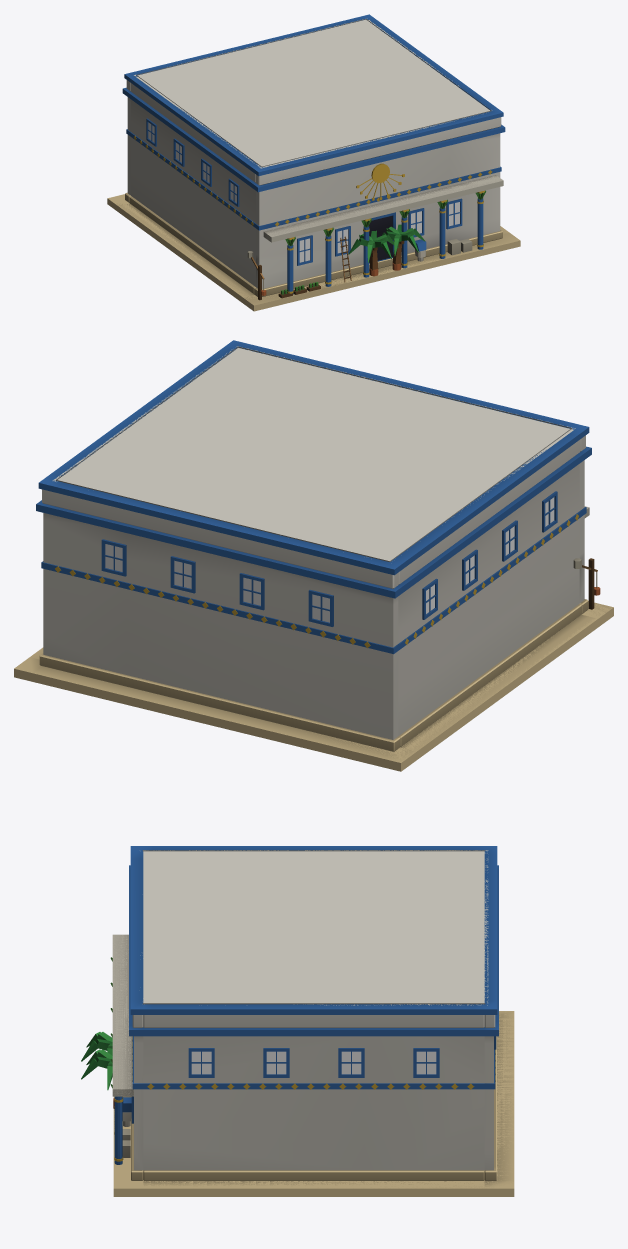
The model's file is NefertitiBustFloor.fbx.
3 renders of one model, top to bottom at view 1: azimuth 30°, elevation 25°; view 2: azimuth 150°, elevation 25°; view 3: azimuth 270°, elevation 25°, orthographic. The views are drawn at different scales.
Visible parts, largest first — view 1: AM_F_Rings, AM_S_All, AM_F_Smooth, AM_F_Quiet, AM_F_Props, AM_F_Glass; view 2: AM_F_Rings, AM_S_All, AM_F_Smooth, AM_F_Quiet, AM_F_Glass; view 3: AM_S_All, AM_F_Rings, AM_F_Smooth, AM_F_Quiet, AM_F_Glass, AM_F_Props.
Part boxes in pixels (x1,y1,x2,y2): AM_F_Rings: [123, 14, 504, 288]; AM_S_All: [107, 18, 520, 311]; AM_F_Smooth: [122, 74, 505, 300]; AM_F_Quiet: [115, 175, 519, 305]; AM_F_Props: [248, 224, 472, 291]; AM_F_Glass: [148, 122, 459, 262]; AM_F_Rings: [36, 340, 591, 739]; AM_S_All: [14, 346, 613, 771]; AM_F_Smooth: [36, 427, 600, 751]; AM_F_Quiet: [14, 506, 612, 762]; AM_F_Glass: [105, 497, 554, 622]; AM_S_All: [112, 850, 514, 1196]; AM_F_Rings: [129, 846, 498, 1170]; AM_F_Smooth: [81, 957, 498, 1180]; AM_F_Quiet: [112, 934, 513, 1188]; AM_F_Glass: [191, 1051, 436, 1074]; AM_F_Props: [93, 1032, 131, 1157].
Bounding box in the file's own units: 60 × 20 × 60.
